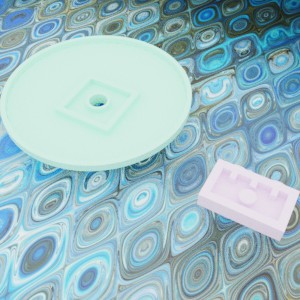lego: (0, 35, 191, 171), (196, 158, 300, 241)
